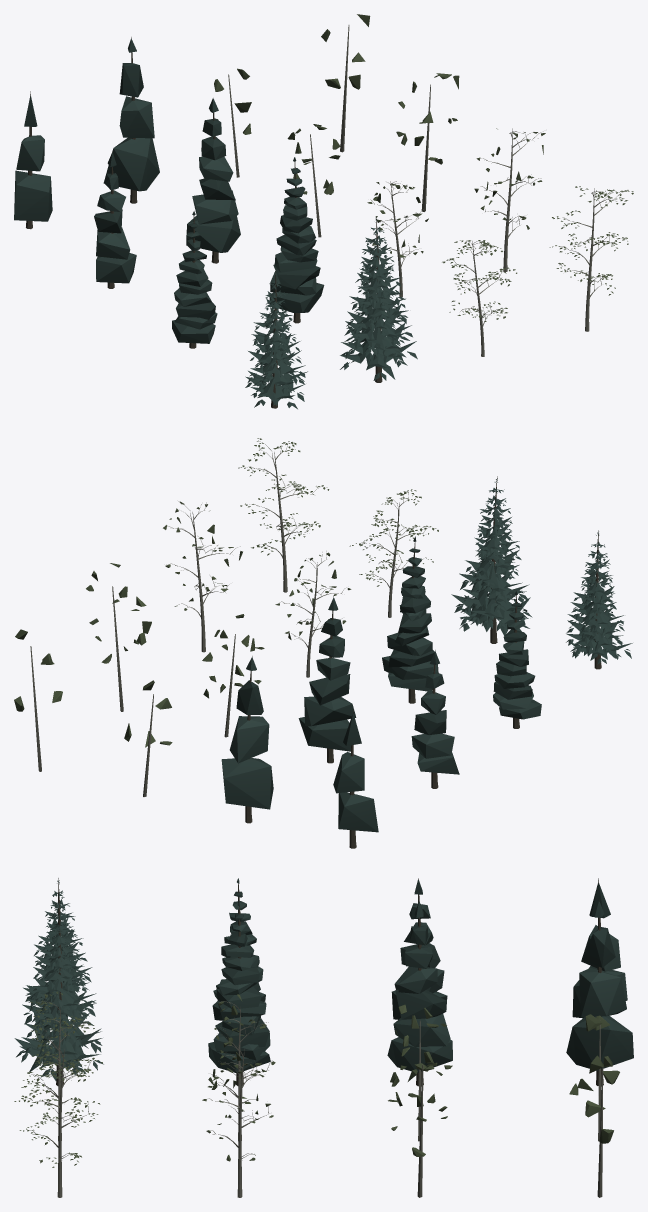
Rendered from watershed-crowns.glb.
The picture shows the model from 3 angles, top to bottom: view 1: azimuth 30°, elevation 25°; view 2: azimuth 150°, elevation 25°; view 3: azimuth 270°, elevation 25°; orthographic projection. The views are drawn at different scales.
Parts seen in each view (by area): view 1: Fir1Canopy0, Fir1Canopy1, Fir1Canopy2, Fir1Canopy3, Fir0Canopy0, Fir0Canopy1, Fir0Canopy2, Fir0Canopy3, Birch1Canopy0, Birch0Canopy0, Birch1Canopy1, Birch0Canopy1 (+4 smaller); view 2: Fir1Canopy0, Fir1Canopy3, Fir1Canopy2, Fir1Canopy1, Fir0Canopy0, Fir0Canopy1, Fir0Canopy2, Fir0Canopy3, Birch1Canopy0, Birch0Canopy0, Birch1Canopy1, Birch0Canopy1 (+4 smaller); view 3: Fir1Canopy0, Fir1Canopy1, Fir1Canopy2, Fir1Canopy3, Fir0Canopy0, Birch1Canopy0, Birch0Canopy0, Fir0Canopy2, Fir0Canopy3, Birch1Canopy1, Fir0Canopy1, Birch1Canopy3 (+4 smaller).
Part boxes in pixels (bbox=[...]): Fir1Canopy0: bbox=[340, 216, 417, 382]; Fir1Canopy1: bbox=[269, 157, 324, 323]; Fir1Canopy2: bbox=[186, 98, 240, 263]; Fir1Canopy3: bbox=[103, 37, 159, 203]; Fir0Canopy0: bbox=[245, 270, 307, 409]; Fir0Canopy1: bbox=[172, 211, 217, 348]; Fir0Canopy2: bbox=[94, 151, 136, 288]; Fir0Canopy3: bbox=[14, 91, 52, 229]; Birch1Canopy0: bbox=[549, 186, 633, 331]; Birch0Canopy0: bbox=[442, 240, 517, 356]; Birch1Canopy1: bbox=[474, 128, 545, 271]; Birch0Canopy1: bbox=[367, 181, 428, 296]; Fir1Canopy0: bbox=[451, 476, 532, 643]; Fir1Canopy3: bbox=[221, 656, 273, 823]; Fir1Canopy2: bbox=[298, 596, 356, 763]; Fir1Canopy1: bbox=[382, 536, 438, 703]; Fir0Canopy0: bbox=[566, 530, 632, 669]; Fir0Canopy1: bbox=[493, 590, 541, 728]; Fir0Canopy2: bbox=[411, 650, 459, 788]; Fir0Canopy3: bbox=[333, 710, 378, 848]; Birch1Canopy0: bbox=[238, 438, 329, 592]; Birch0Canopy0: bbox=[349, 489, 438, 617]; Birch1Canopy1: bbox=[163, 501, 242, 652]; Birch0Canopy1: bbox=[275, 551, 351, 677]; Fir1Canopy0: bbox=[14, 900, 103, 1085]; Fir1Canopy1: bbox=[208, 900, 270, 1085]; Fir1Canopy2: bbox=[387, 900, 452, 1086]; Fir1Canopy3: bbox=[566, 900, 633, 1086]; Fir0Canopy0: bbox=[22, 878, 96, 1025]; Birch1Canopy0: bbox=[14, 1033, 100, 1197]; Birch0Canopy0: bbox=[21, 991, 102, 1140]; Fir0Canopy2: bbox=[391, 878, 447, 1019]; Fir0Canopy3: bbox=[572, 878, 627, 1018]; Birch1Canopy1: bbox=[202, 1035, 273, 1197]; Fir0Canopy1: bbox=[212, 878, 265, 1020]; Birch1Canopy3: bbox=[569, 1055, 613, 1197].
Bounding box in the file's own units: 50.79 × 21.51 × 65.46.
